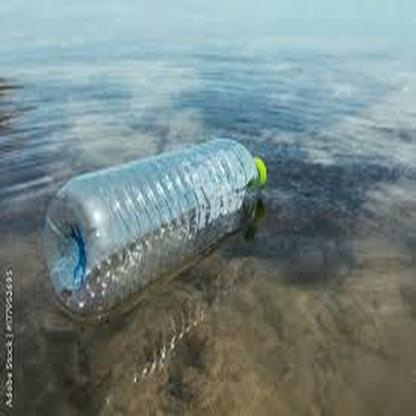plastic bottle: (42, 137, 269, 311)
